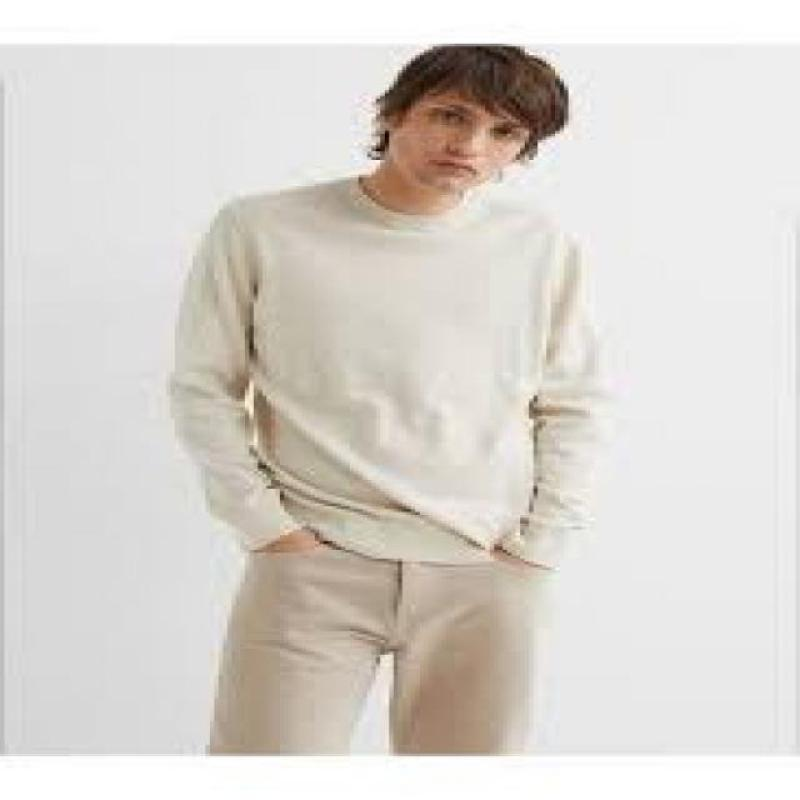sweater: (166, 177, 622, 574)
trousers: (206, 535, 544, 758)
